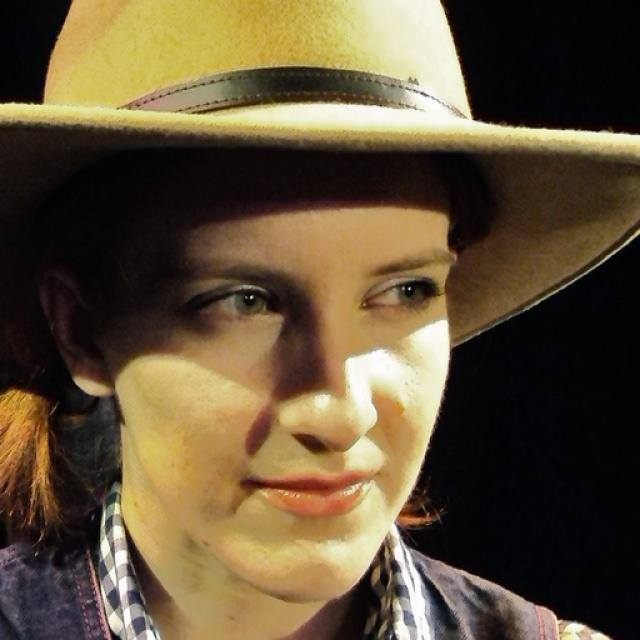content: (114, 200, 456, 603)
